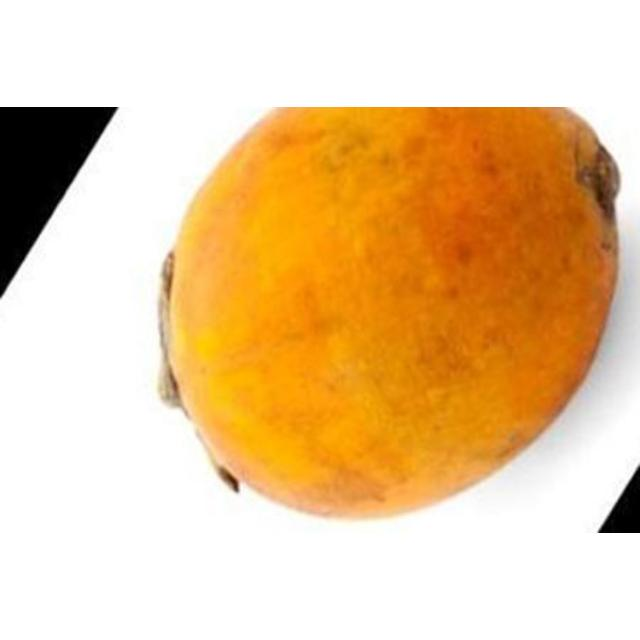good: (159, 107, 622, 522)
